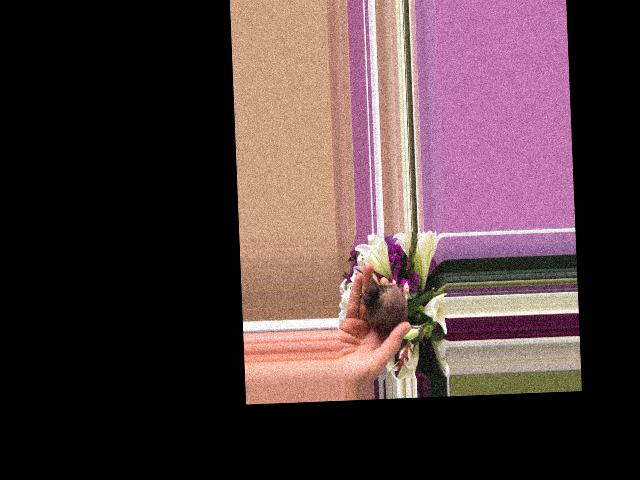beet: (363, 279, 429, 337)
